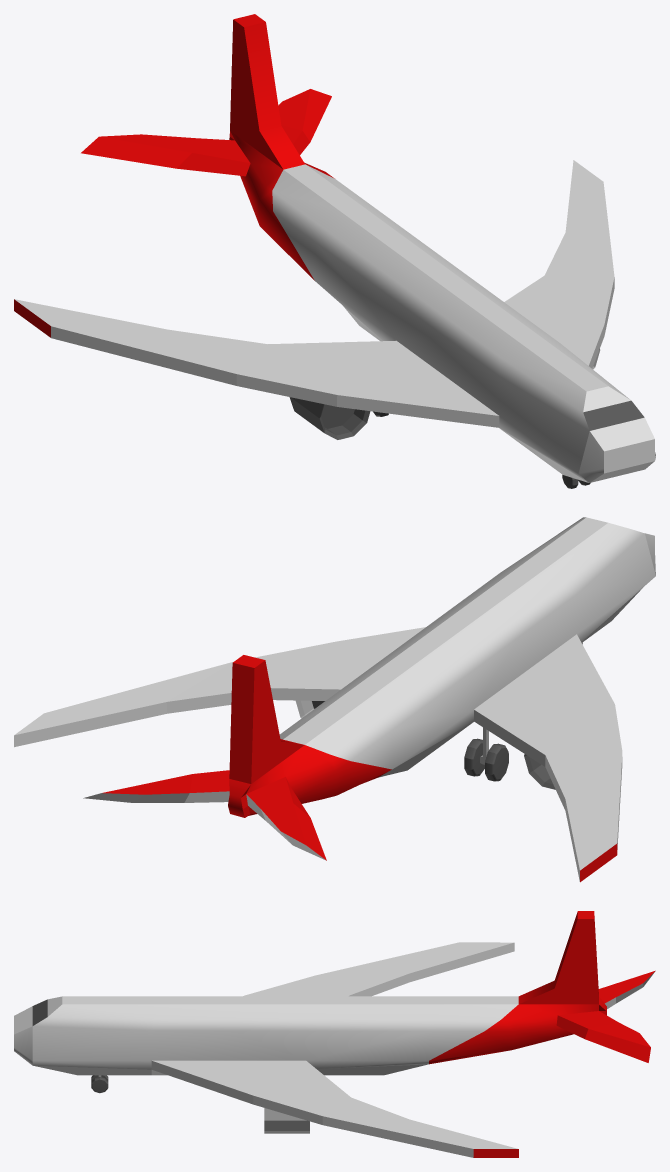
The model's file is runway_plane.fbx.
The picture shows the model from 3 angles, top to bottom: view 1: azimuth 30°, elevation 25°; view 2: azimuth 150°, elevation 25°; view 3: azimuth 270°, elevation 25°; orthographic projection. The views are drawn at different scales.
Visible parts, largest first — view 1: PlaneBody, EngineR; view 2: PlaneBody, WheelR; view 3: PlaneBody, EngineL.
Boxes of the visible parts, bbox=[...] form: PlaneBody: bbox=[14, 14, 655, 482]; EngineR: bbox=[289, 397, 370, 439]; PlaneBody: bbox=[14, 517, 655, 882]; WheelR: bbox=[464, 727, 508, 781]; PlaneBody: bbox=[14, 911, 655, 1157]; EngineL: bbox=[264, 1108, 309, 1133].
Size of what is drawn, in the model's own units: 277 by 114 by 364.
